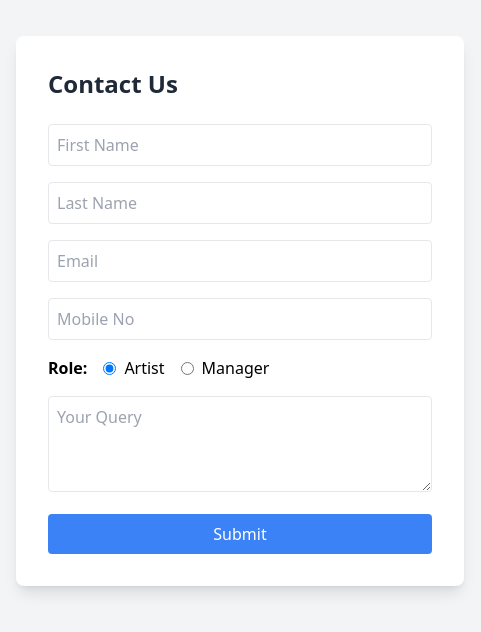
Test: ContactForm Component › submits the form successfully when provided valid data
This screenshot has width=481, height=632.
Type "John" into the field with placeholder "First Name" at (240, 145), box x1=48 y1=124 x2=432 y2=166
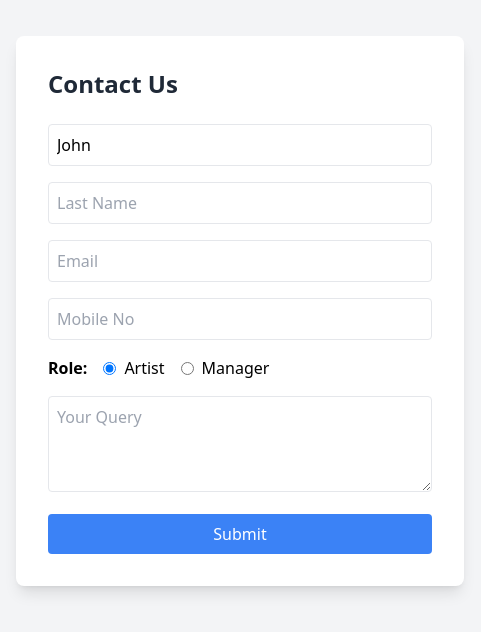
Type "Doe" into the field with placeholder "Last Name" at (240, 203), box x1=48 y1=182 x2=432 y2=224
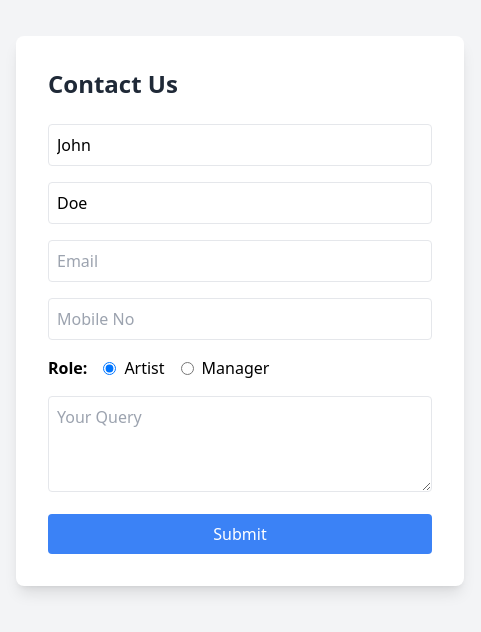
Type "john@example.com" into the field with placeholder "Email" at (240, 261), box x1=48 y1=240 x2=432 y2=282
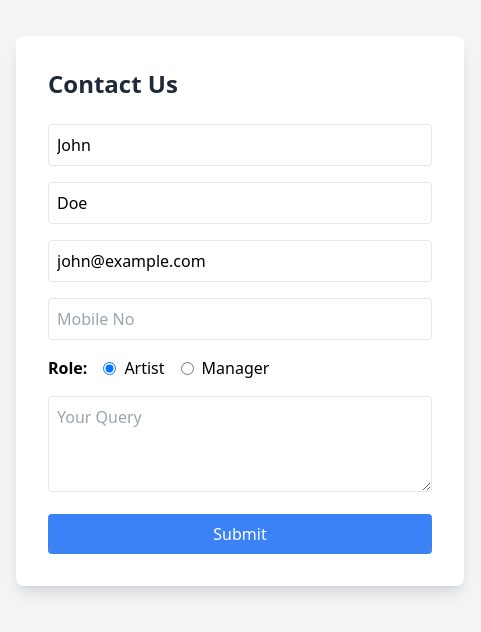
Type "1234567890" into the field with placeholder "Mobile No" at (240, 319), box x1=48 y1=298 x2=432 y2=340
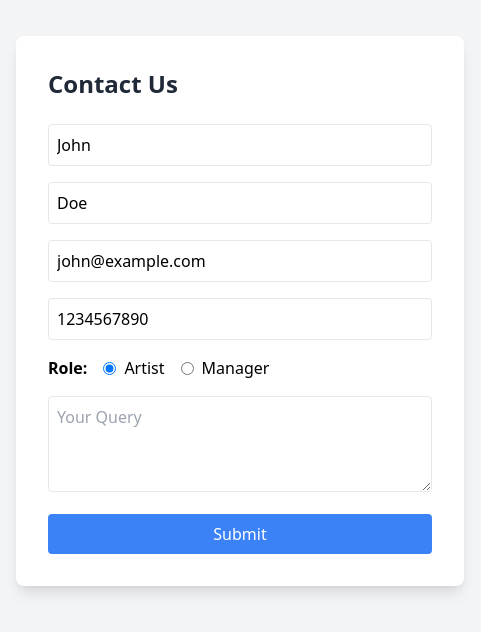
Type "This is a valid query." into the text box with placeholder "Your Query" at (240, 444), box x1=48 y1=396 x2=432 y2=492
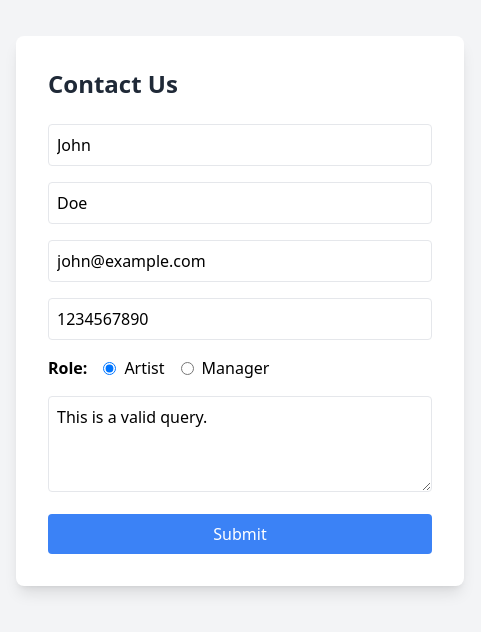
Submit the form
Click the button "Submit" at (240, 534), box x1=48 y1=514 x2=432 y2=554
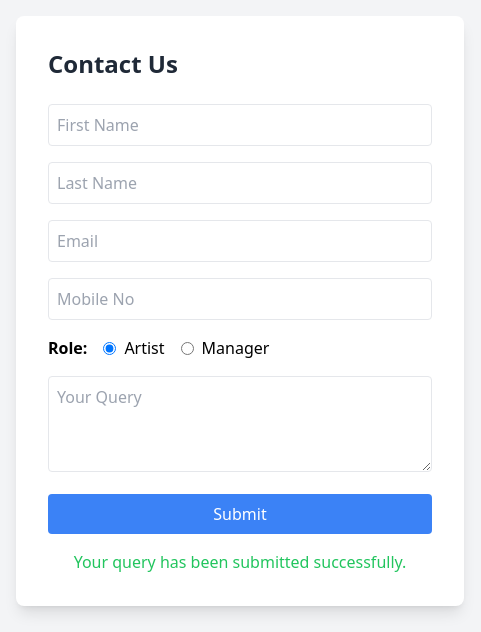
Expected: the text "Your query has been submitted successfully." is shown, x1=48 y1=550 x2=432 y2=574
Expected: the field with placeholder "First Name" is empty, x1=48 y1=104 x2=432 y2=146
Expected: the field with placeholder "Last Name" is empty, x1=48 y1=162 x2=432 y2=204
